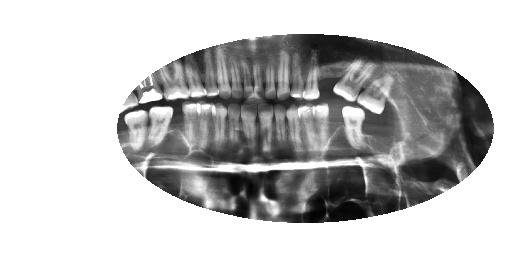i10healthy: (225, 96, 243, 161)
i11healthy: (211, 101, 229, 160)
i12healthy: (194, 95, 220, 158)
i13healthy: (176, 91, 203, 160)
i14loss: (163, 97, 188, 159)
i15healthy: (146, 100, 176, 150)
i16healthy: (123, 107, 153, 157)
i1loss: (361, 108, 392, 153)
i2healthy: (341, 97, 372, 152)
i3loss: (321, 100, 352, 150)
i4healthy: (309, 95, 335, 155)
i5healthy: (295, 95, 320, 156)
i6healthy: (283, 95, 304, 157)
i7healthy: (270, 98, 289, 159)
i8healthy: (257, 95, 276, 157)
i9healthy: (239, 96, 260, 156)
u10healthy: (226, 53, 245, 100)
u11healthy: (211, 47, 235, 103)
u12healthy: (198, 49, 221, 101)
u13healthy: (185, 55, 208, 100)
u14healthy: (157, 64, 191, 107)
u15healthy: (134, 74, 163, 106)
u1healthy: (354, 72, 398, 116)
u2healthy: (329, 49, 376, 104)
u3loss: (315, 46, 345, 102)
u4healthy: (302, 46, 324, 102)
u5healthy: (284, 48, 307, 102)
u6healthy: (273, 43, 293, 102)
u7healthy: (260, 50, 279, 103)
u8decay: (247, 52, 267, 101)
u9healthy: (240, 57, 255, 103)
